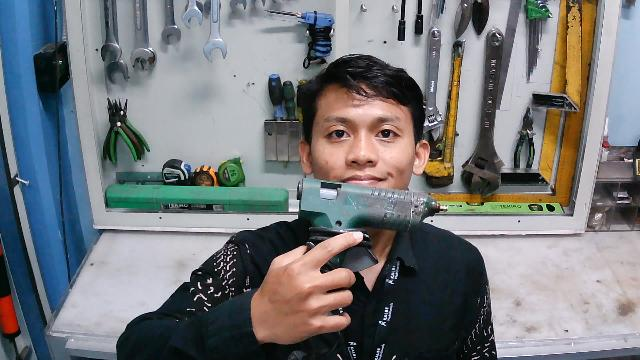gun_lem: (294, 177, 451, 325)
